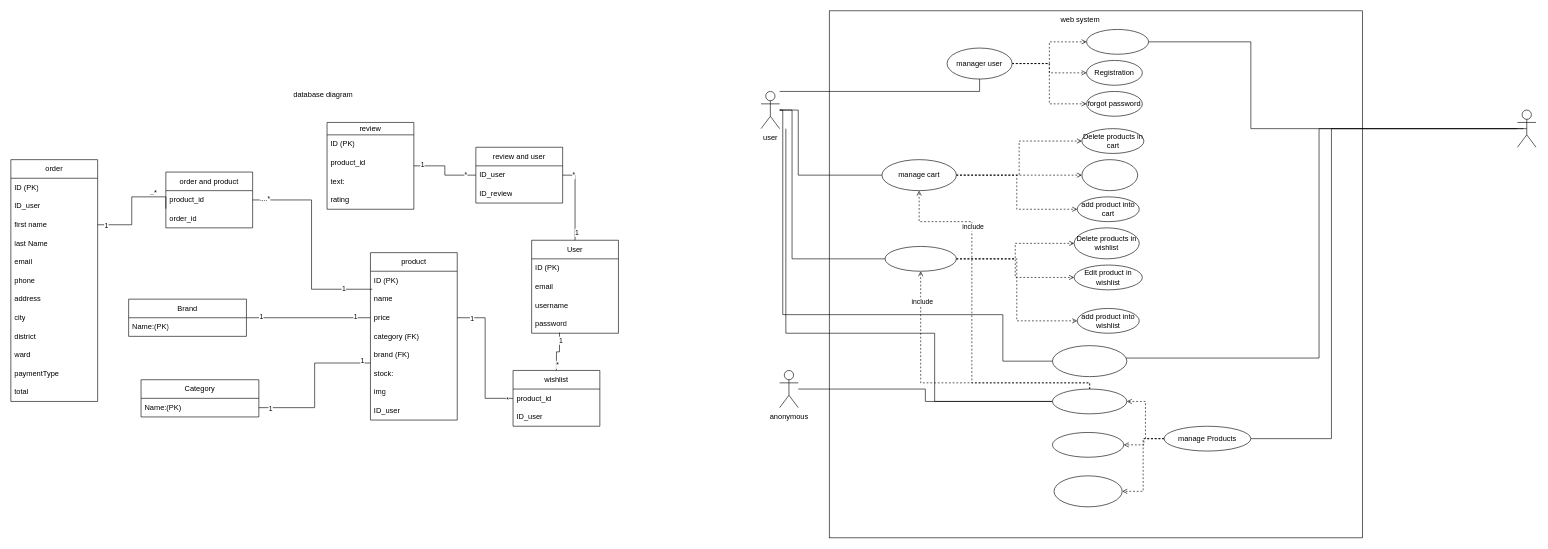
The diagram is 1548 pixels wide and 549 high, and some of its shapes have lost their labels. The shapes that lost their labels are listed below. From the top down, each one's centre as x and y in pixels, then its label:
the point at 1117,41: login
the point at 1526,128: admin
the point at 1109,175: Edit product in cart
the point at 920,258: manage wishlist
the point at 1089,361: maker order
the point at 1089,401: View product
the point at 1088,444: edit products
the point at 1087,491: Deleted Product
